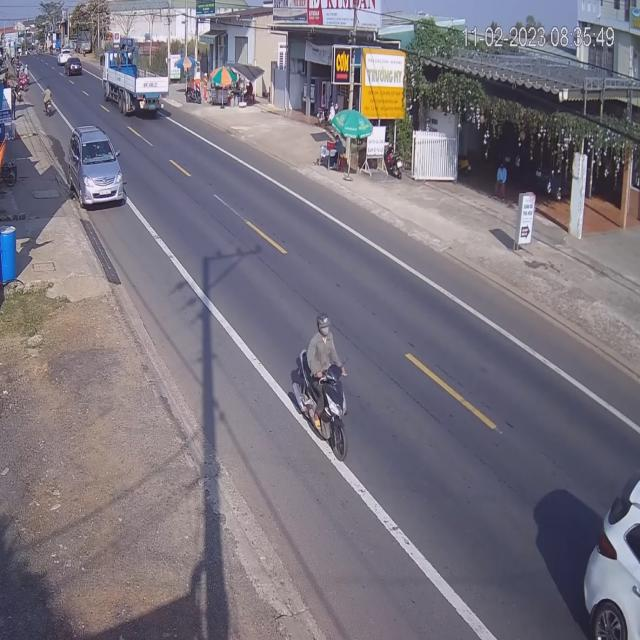car: (581, 470, 640, 640), (68, 128, 126, 212), (64, 54, 83, 78)
motorbike: (291, 317, 350, 466), (42, 88, 54, 118)
truck: (102, 42, 172, 119)
